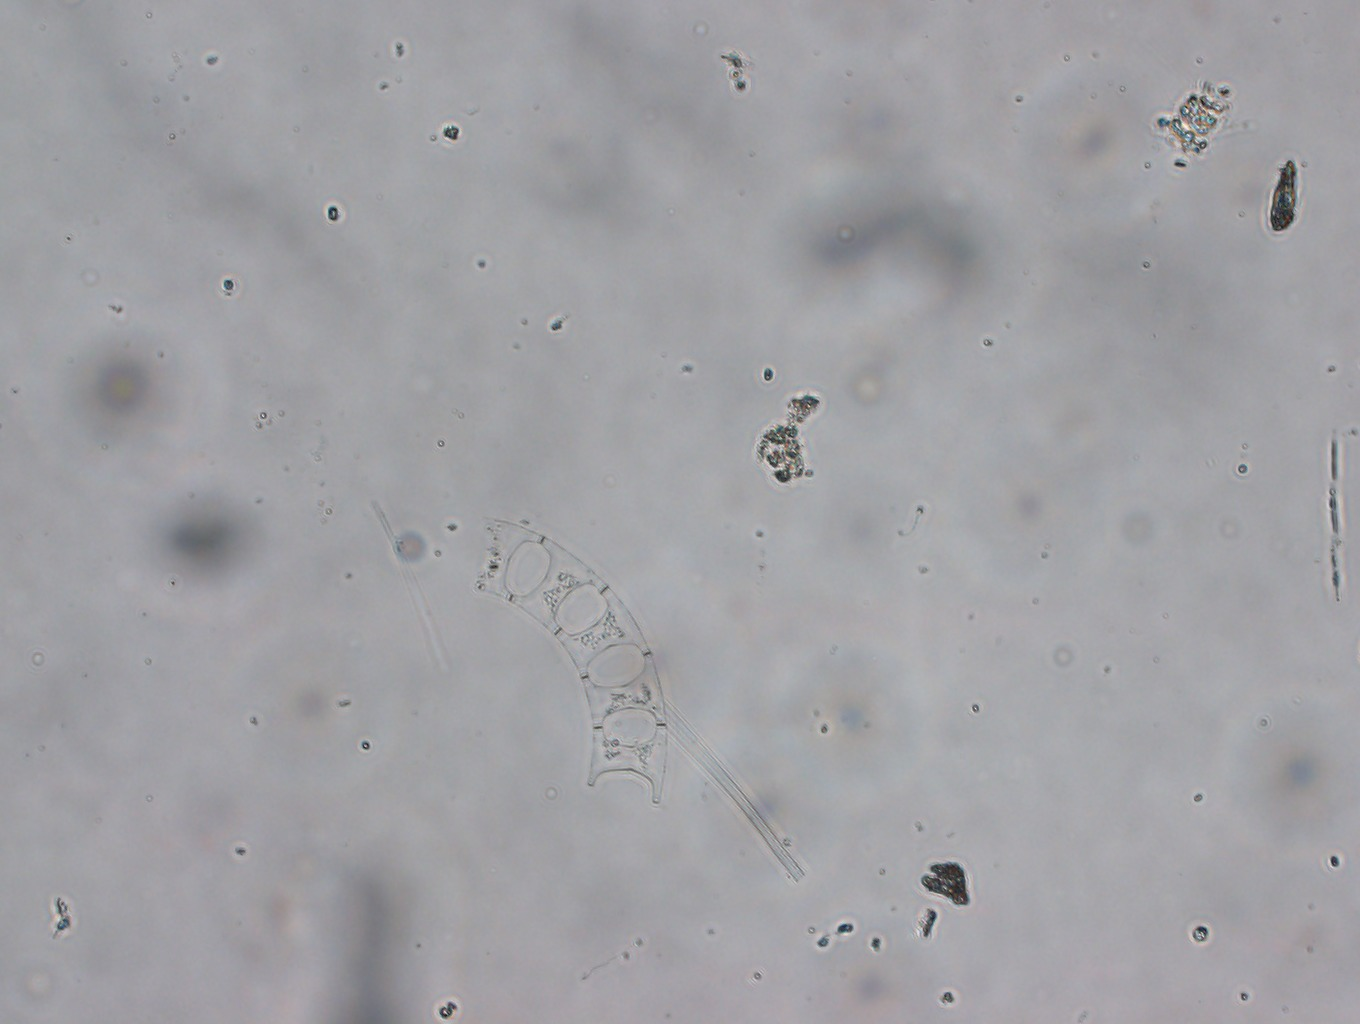eucampia: (475, 517, 668, 806)
